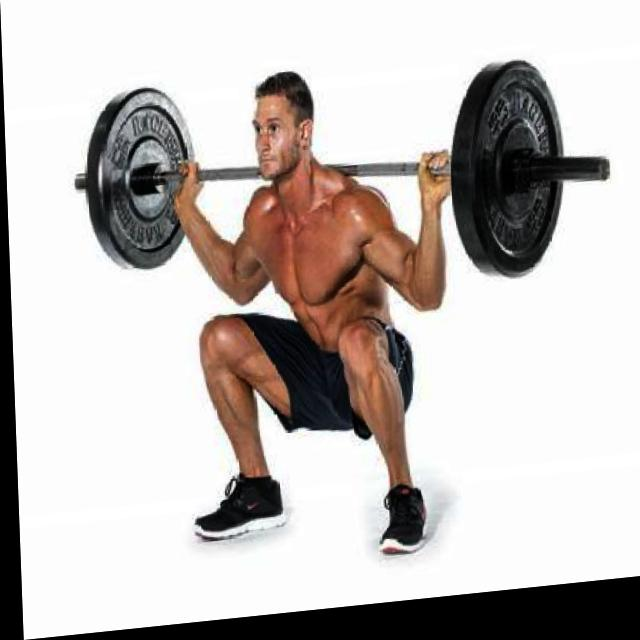barbell: (459, 62, 614, 298)
